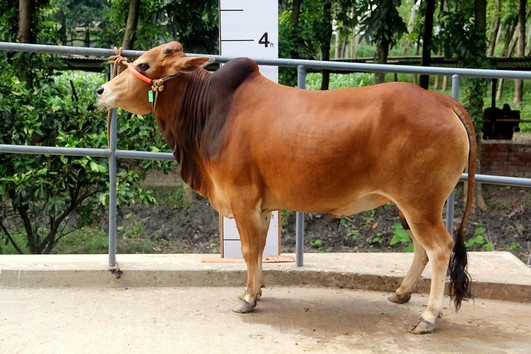cow: (92, 34, 473, 333)
